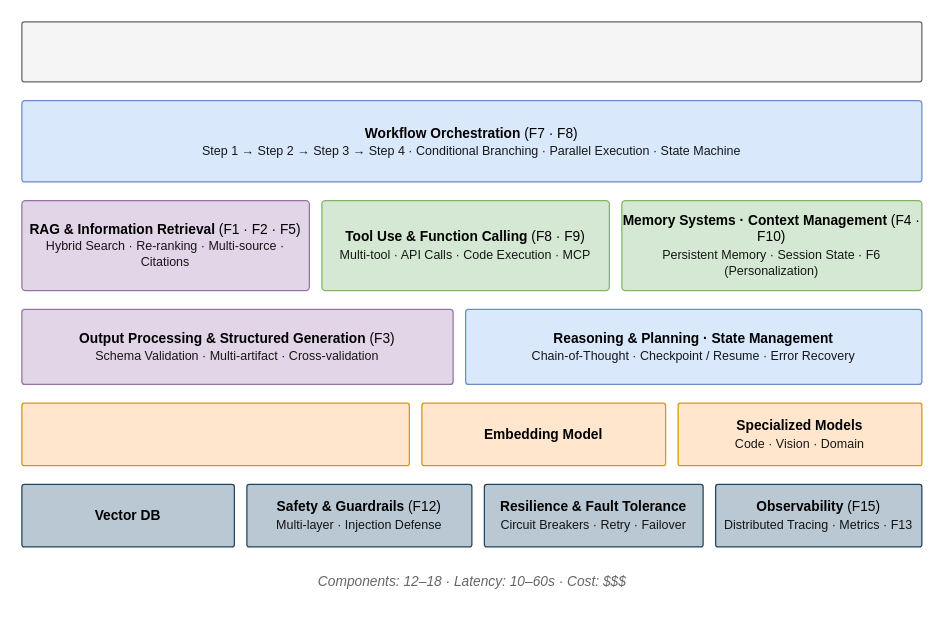
This 944x619 diagram has some shape labels left out. Here are the shapes that lost their labels. From the top down, the centre of each, then its label:
(x=471, y=51): User Interface · Streaming · Progress · HITL Approvals (F11)
(x=215, y=434): Foundation Models Model Selection & Customization Strategy
